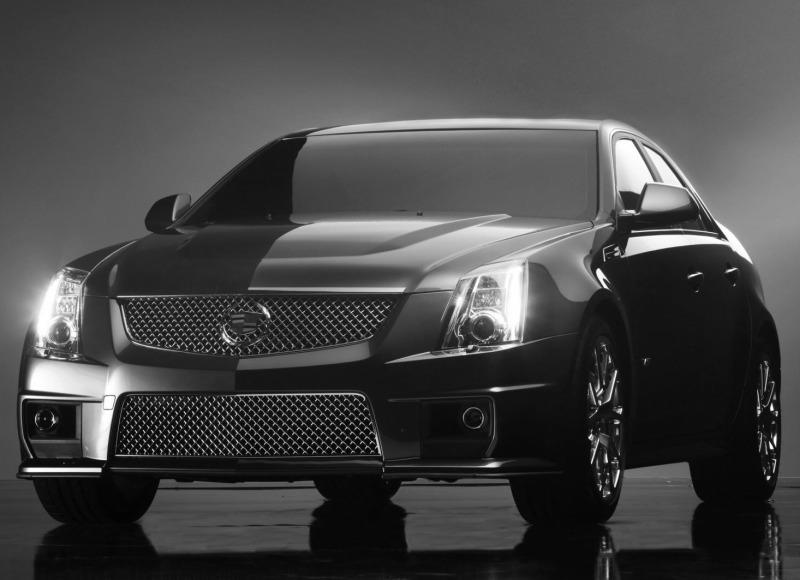car: (18, 120, 784, 524)
